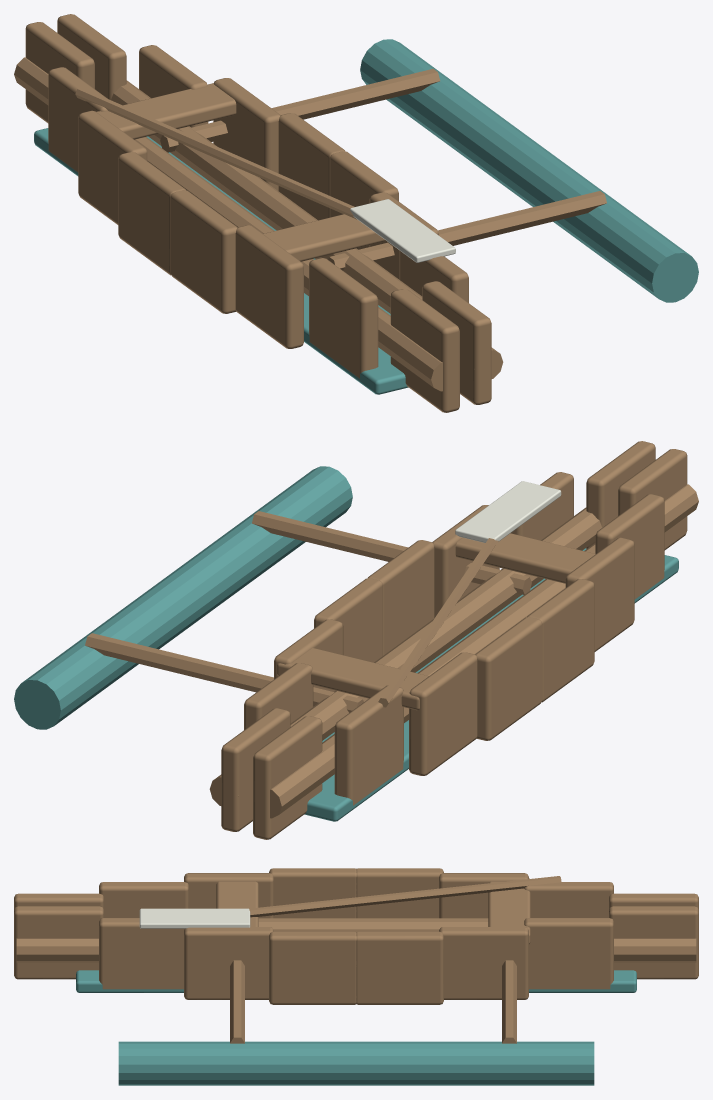
Rendered from castaway-island-escape-escape-outrigger-canoe-ae1598a5__28071.glb.
3 views of the same model, one above another, from view 1: azimuth 30°, elevation 25°; view 2: azimuth 150°, elevation 25°; view 3: azimuth 270°, elevation 25° (orthographic). The views are drawn at different scales.
Visible parts, largest first — view 1: escape-outrigger-canoe-wood, escape-outrigger-canoe-teal, escape-outrigger-canoe-ivory; view 2: escape-outrigger-canoe-wood, escape-outrigger-canoe-teal, escape-outrigger-canoe-ivory; view 3: escape-outrigger-canoe-wood, escape-outrigger-canoe-teal, escape-outrigger-canoe-ivory.
Part boxes in pixels (<box>): escape-outrigger-canoe-wood: <box>14,14,606,412</box>; escape-outrigger-canoe-teal: <box>34,39,698,394</box>; escape-outrigger-canoe-ivory: <box>350,199,455,262</box>; escape-outrigger-canoe-wood: <box>85,441,698,839</box>; escape-outrigger-canoe-teal: <box>14,466,678,821</box>; escape-outrigger-canoe-ivory: <box>455,481,561,542</box>; escape-outrigger-canoe-wood: <box>14,868,698,1043</box>; escape-outrigger-canoe-teal: <box>76,970,636,1085</box>; escape-outrigger-canoe-ivory: <box>139,908,250,928</box>.
Bounding box in the file's own units: 2.12 × 0.5049 × 4.03.
